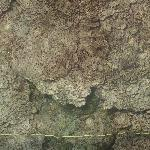dead: (1, 2, 145, 147)
